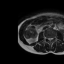CCS_stenosis: (49, 37, 51, 42)
LFS_normal: (52, 35, 54, 40)
LLS_stenosis: (51, 36, 52, 41)
RFS_stenosis: (46, 36, 48, 40)
RLS_stenosis: (48, 36, 49, 41)
